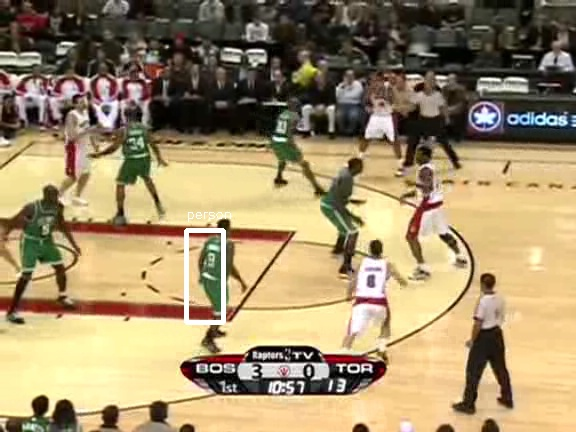person: (202, 232, 236, 313), (201, 232, 235, 313), (203, 232, 237, 313), (202, 231, 236, 312), (202, 233, 236, 314)
target_negative: (229, 89, 471, 381), (93, 295, 394, 432), (47, 159, 401, 208), (209, 385, 519, 425), (234, 186, 500, 206), (145, 213, 167, 407)
